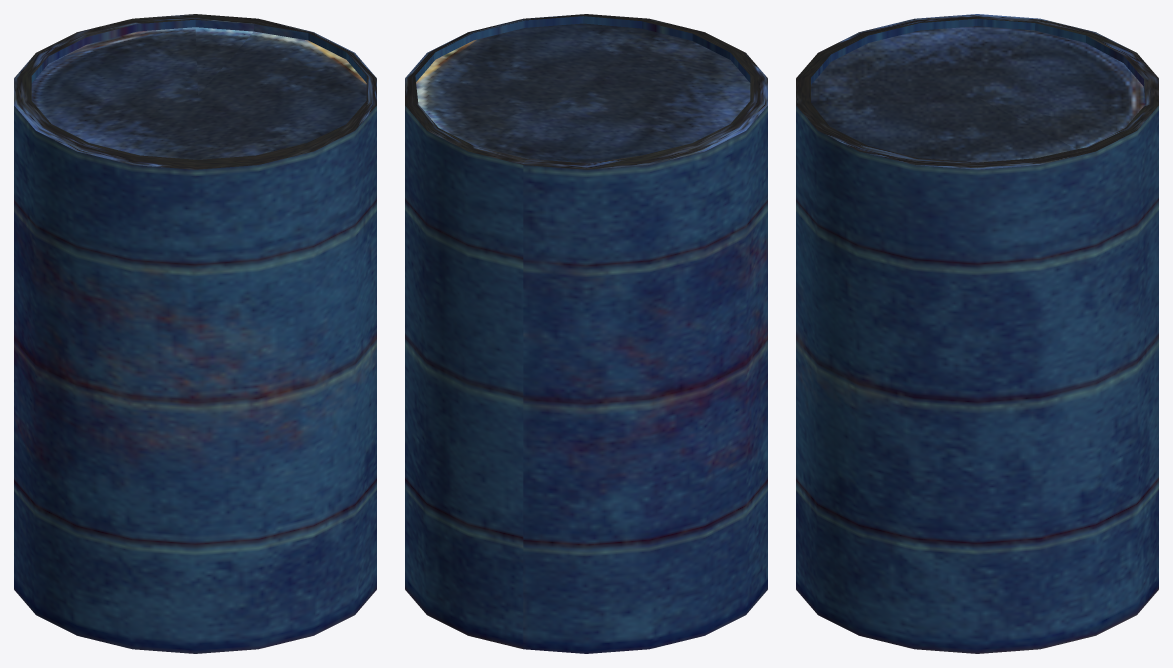
Rendered from barrel4.FBX.
3 views of the same model, side by side, from view 1: azimuth 30°, elevation 25°; view 2: azimuth 150°, elevation 25°; view 3: azimuth 270°, elevation 25° (orthographic).
Parts seen in each view (by area): view 1: Cylinder001; view 2: Cylinder001; view 3: Cylinder001.
Boxes of the visible parts, x1,y1,x2,y2 form: Cylinder001: [14, 14, 376, 653]; Cylinder001: [405, 14, 767, 653]; Cylinder001: [796, 14, 1158, 653].
Bounding box in the file's own units: 32.64 × 47.6 × 32.14.
